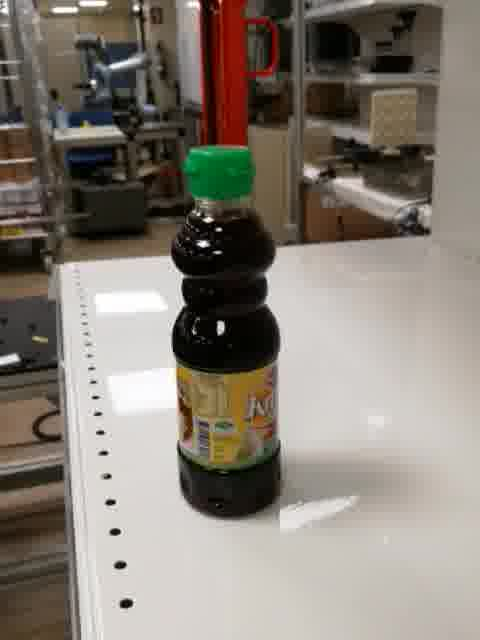cookingoil: (169, 141, 286, 522)
